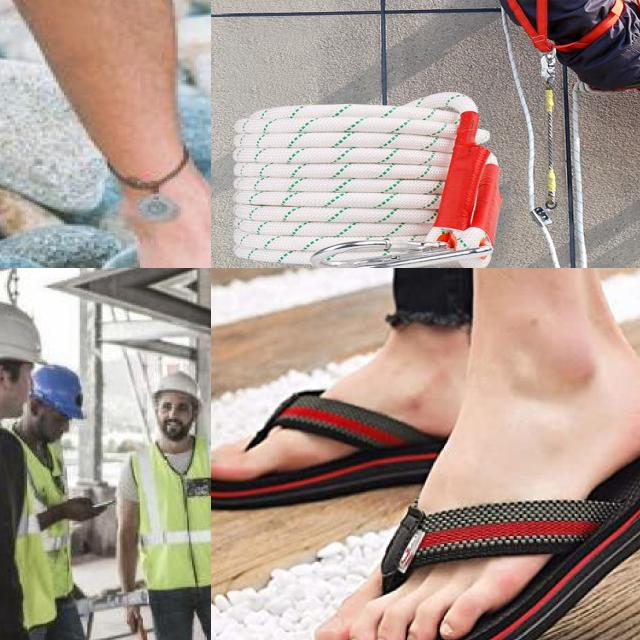Harness: (501, 0, 623, 56)
Sandals: (320, 325, 640, 640), (211, 393, 438, 513)
face_nomask: (156, 397, 192, 436)
hand_noglove: (63, 491, 109, 527), (121, 600, 147, 635)
head_nohelmet: (0, 294, 51, 379), (30, 360, 88, 422), (151, 369, 205, 403)
person: (102, 372, 211, 640), (0, 291, 63, 640)
vest: (0, 411, 56, 640), (128, 438, 211, 588)
